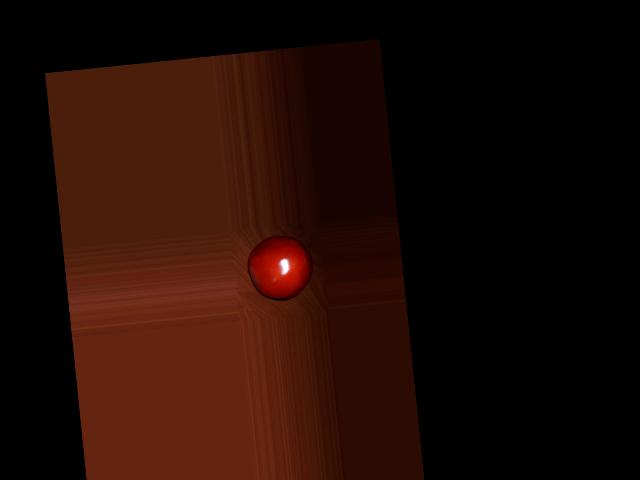tomato: (245, 231, 315, 303)
